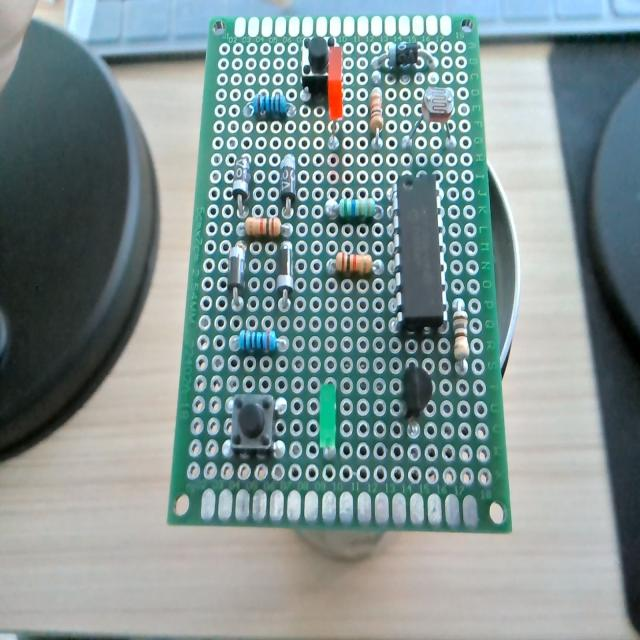IC: (397, 176, 445, 336)
cds: (411, 84, 458, 148)
diode: (372, 40, 437, 72), (227, 244, 247, 298), (279, 152, 297, 209), (232, 153, 252, 204), (277, 243, 293, 301)
led: (313, 374, 339, 462), (327, 44, 345, 150)
resistor: (247, 93, 292, 120), (236, 328, 280, 354), (241, 218, 288, 238), (453, 306, 469, 361), (336, 252, 372, 276), (339, 198, 375, 218), (369, 88, 383, 134)
switch: (230, 392, 277, 457), (301, 34, 334, 98)
transistor: (397, 358, 437, 436)
